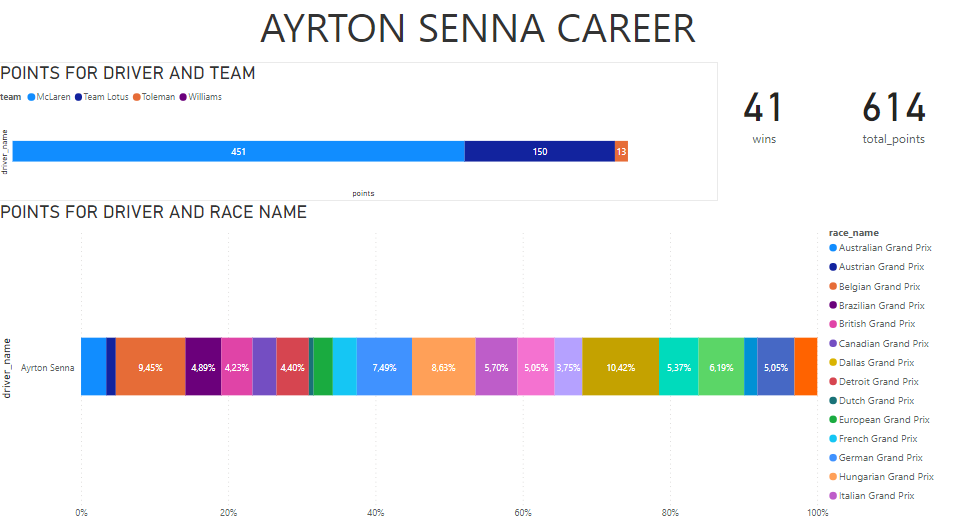

This screenshot's page, from the dashboard's own definition file:
{"tool":"powerbi","page":{"name":"Página 1","canvas":[1280,720],"ordinal":0},"visuals":[{"type":"card","fields":{"Values":["driver_standings.total_points"]},"box":[1103.4,89.1,176.6,126.1],"z":0},{"type":"card","fields":{"Values":["driver_standings.wins"]},"box":[958.7,89.1,122.8,126.1],"z":1000},{"type":"barChart","title":"POINTS FOR DRIVER AND TEAM","fields":{"Category":["race_results.driver_name"],"Series":["race_results.team"],"Y":["race_results.points"]},"box":[0,89.1,958.7,185],"z":2000},{"type":"hundredPercentStackedBarChart","title":"POINTS FOR  DRIVER AND RACE NAME","fields":{"Category":["race_results.driver_name"],"Series":["race_results.race_name"],"Y":["race_results.points"]},"box":[0,274.2,1278.3,445.7],"z":3000},{"type":"textbox","box":[0,0,1280,89.1],"z":4000}]}

Visuals, with their boxes in screenshot pixels (x1, y1, x2, y2), scaled from the page's 1280x720 canvas onto the 954x523 screenshot:
card - driver_standings.total_points: x1=822, y1=65, x2=953, y2=156
card - driver_standings.wins: x1=715, y1=65, x2=806, y2=156
"POINTS FOR DRIVER AND TEAM" barChart: x1=0, y1=65, x2=715, y2=199
"POINTS FOR  DRIVER AND RACE NAME" hundredPercentStackedBarChart: x1=0, y1=199, x2=953, y2=522
textbox: x1=0, y1=0, x2=953, y2=65
